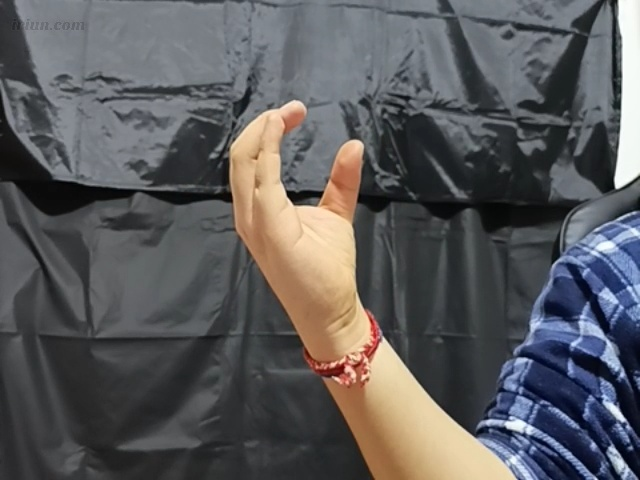C: (215, 102, 381, 301)
